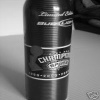beer: (22, 2, 72, 100)
